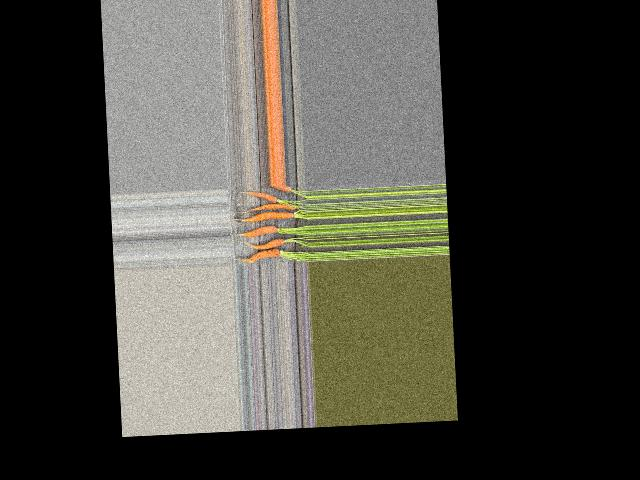carrot: (276, 184, 299, 196)
